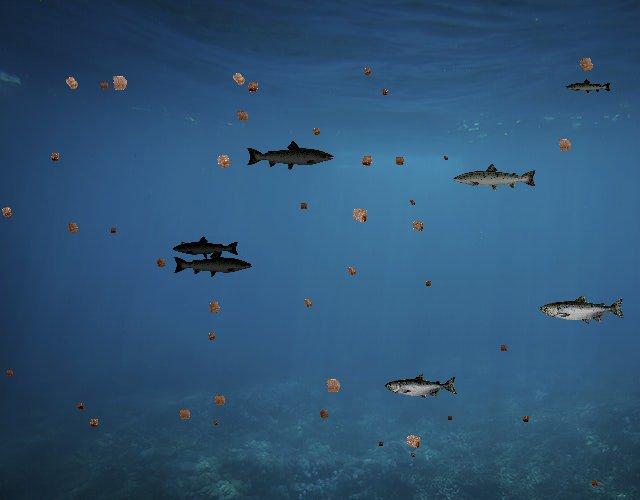Fish: (246, 140, 336, 172), (452, 162, 538, 193), (540, 294, 626, 325), (173, 249, 254, 278), (386, 373, 459, 400), (173, 236, 241, 260), (565, 78, 612, 95)
Pellet: (104, 68, 134, 98), (242, 76, 264, 98), (0, 201, 18, 223), (342, 261, 361, 280), (391, 152, 408, 170), (518, 412, 532, 426), (422, 278, 435, 291), (107, 225, 119, 237), (210, 418, 220, 428)
